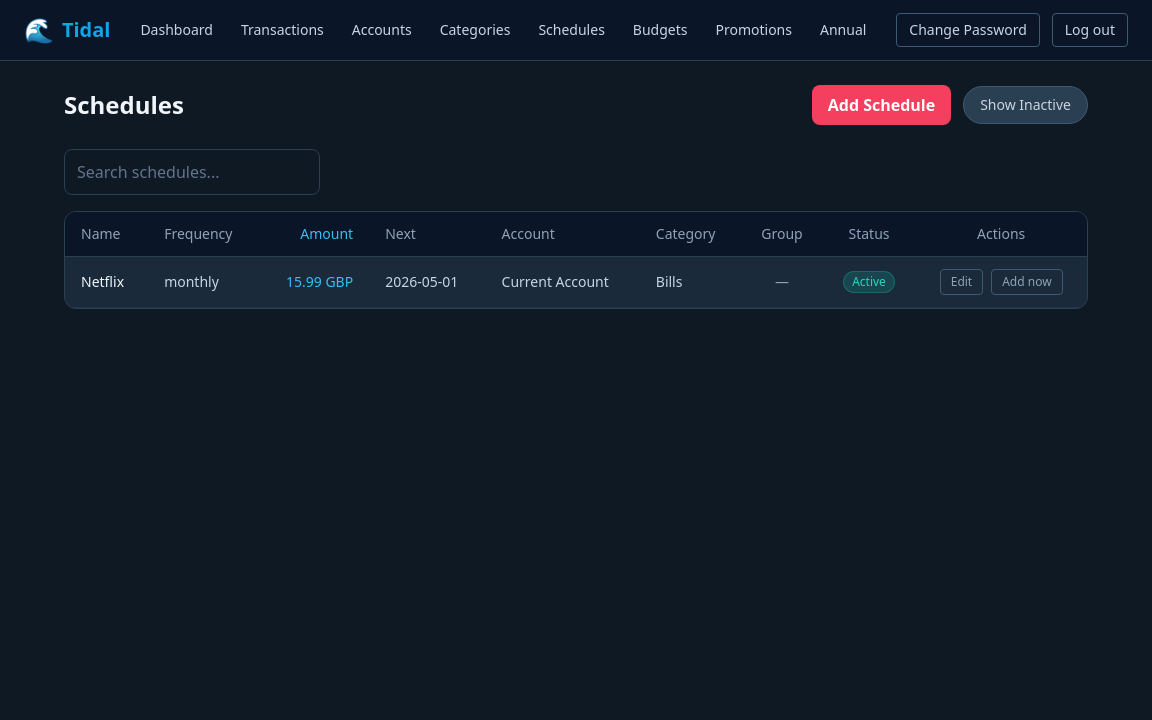
Scenario: SchedulesPage › opens the edit form when Edit is clicked
Click the button "Edit" at x=961, y=282, box [940,269,983,295]
(page scrolled)
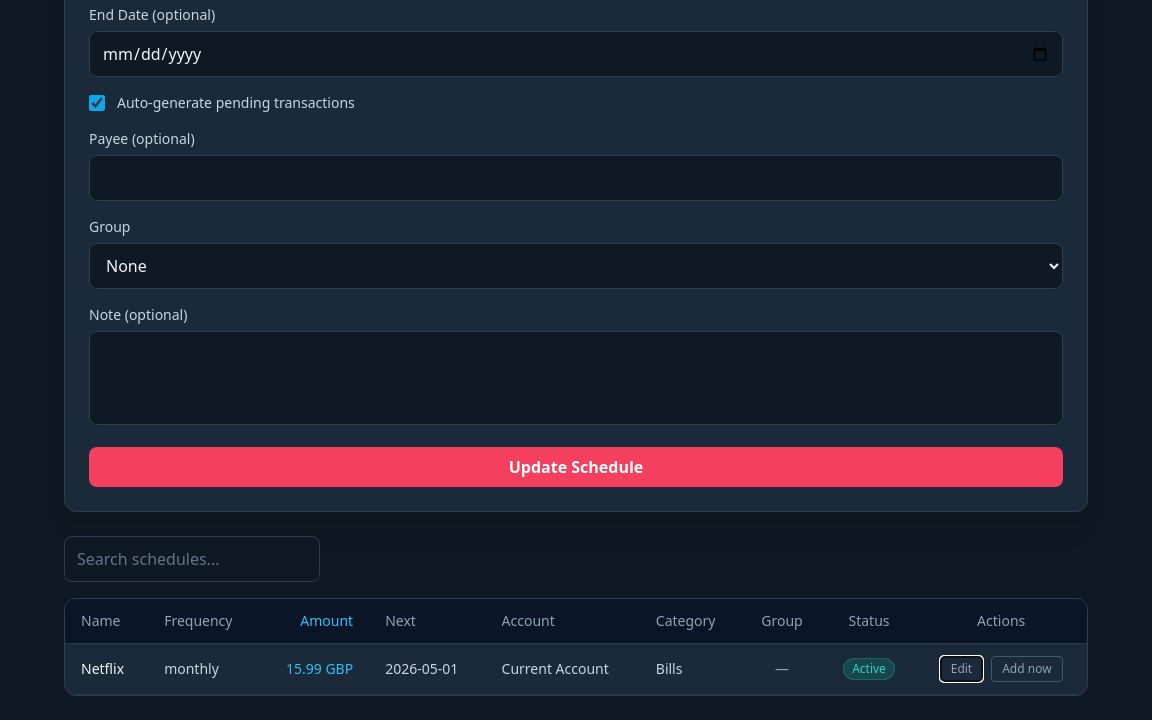
Expected: the button "Update Schedule" is shown, [89,447,1063,487]
